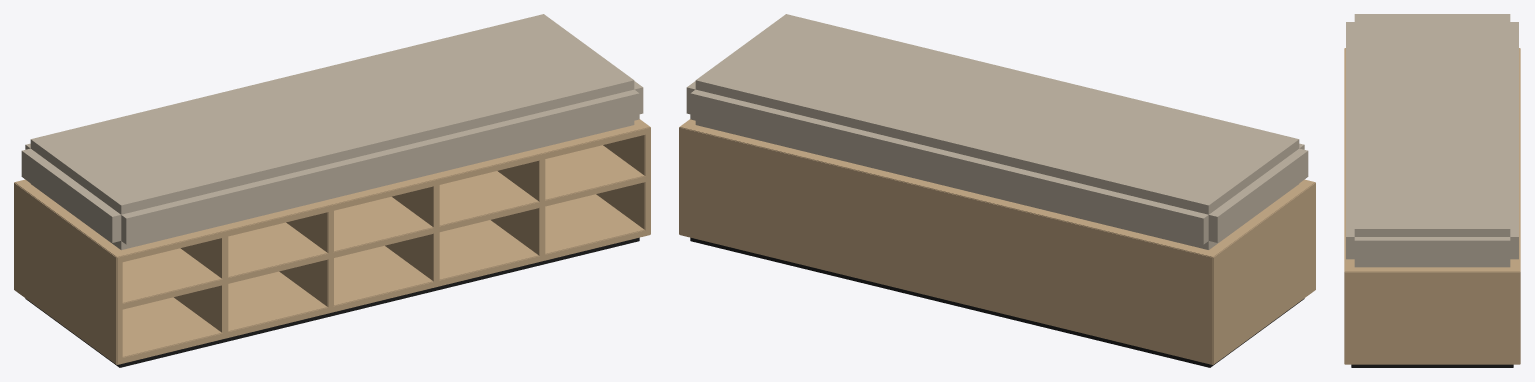
3 renders of one model, left to right at view 1: azimuth 30°, elevation 25°; view 2: azimuth 150°, elevation 25°; view 3: azimuth 270°, elevation 25°, orthographic. The views are drawn at different scales.
Visible parts, largest first — view 1: shusio-5-shoe-storage-bench-minimalis; view 2: shusio-5-shoe-storage-bench-minimalis; view 3: shusio-5-shoe-storage-bench-minimalis.
Boxes of the visible parts, <box> form: shusio-5-shoe-storage-bench-minimalis: <box>14,14,650,367</box>; shusio-5-shoe-storage-bench-minimalis: <box>679,14,1315,367</box>; shusio-5-shoe-storage-bench-minimalis: <box>1344,14,1520,367</box>.
Size of the model in its own units: 1.5 by 0.43 by 0.5.
